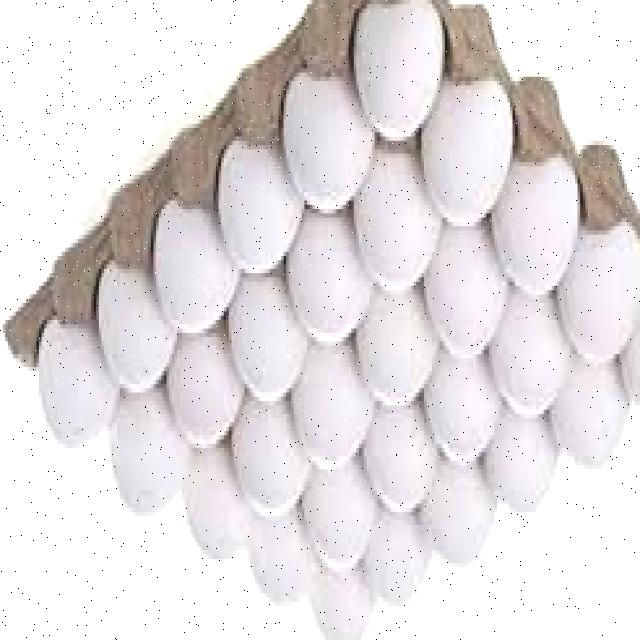White Egg: (346, 150, 450, 307), (351, 0, 453, 154), (279, 64, 375, 225), (416, 76, 511, 221), (428, 214, 510, 379), (213, 136, 304, 281), (38, 301, 115, 472), (287, 212, 379, 352), (557, 210, 640, 363), (502, 151, 582, 309), (288, 332, 375, 476), (223, 274, 313, 404), (155, 200, 240, 337), (351, 298, 444, 414), (552, 341, 628, 477), (96, 264, 173, 396), (230, 405, 313, 520), (362, 408, 442, 526), (495, 292, 562, 430), (180, 431, 247, 569), (419, 462, 496, 577), (116, 374, 177, 518), (422, 365, 506, 464), (171, 330, 240, 448), (300, 467, 376, 569), (488, 423, 562, 518), (363, 511, 430, 609), (251, 506, 314, 609), (315, 563, 377, 640), (617, 291, 640, 427)
